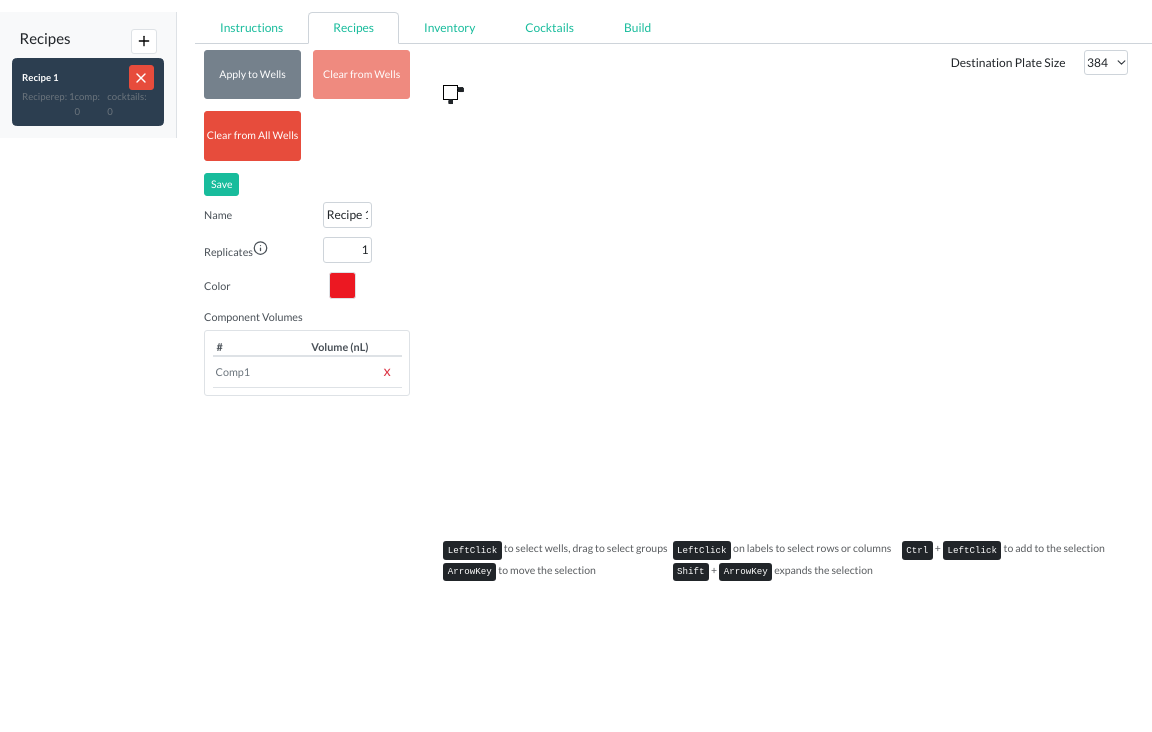
Test: CocktailBuilder designer smoke test › a cocktail row can be added
What coordinates should you click on to do the following:
click the tab "Cocktails"
I would click on:
 (550, 28)
Its box is [500,12,599,44].
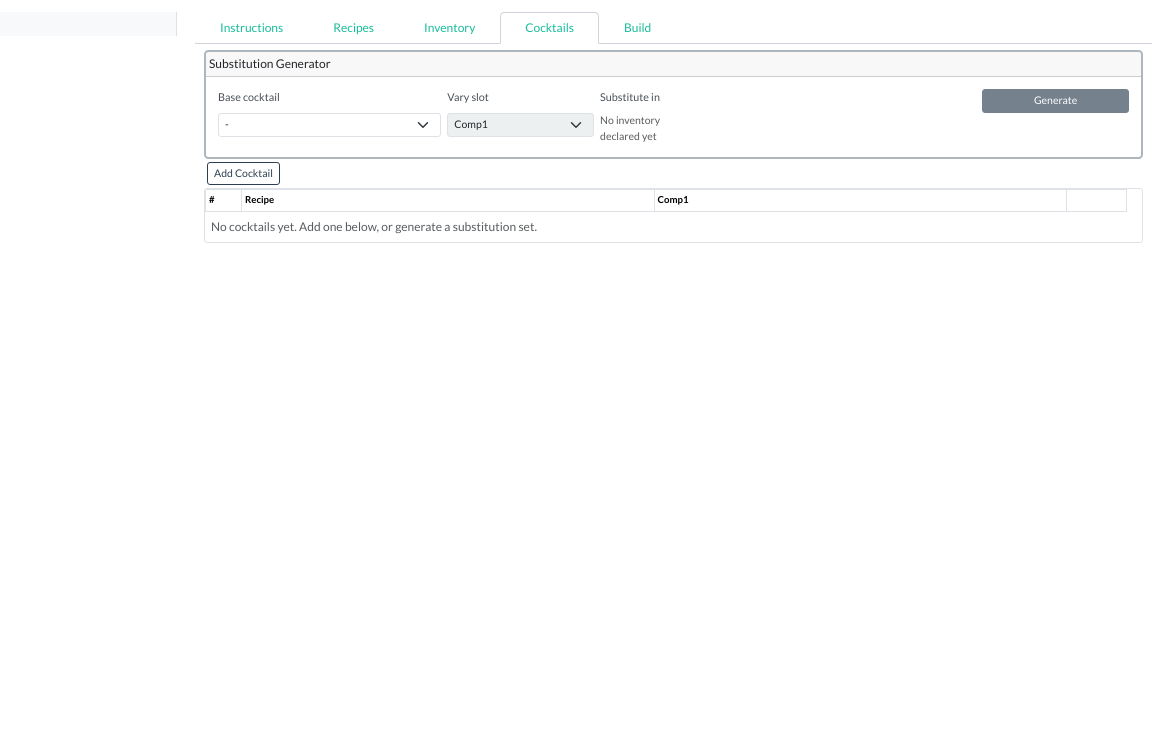
What coordinates should you click on to do the following:
click the button "Add Cocktail"
I would click on:
 (244, 174)
Its box is [207,162,280,186].
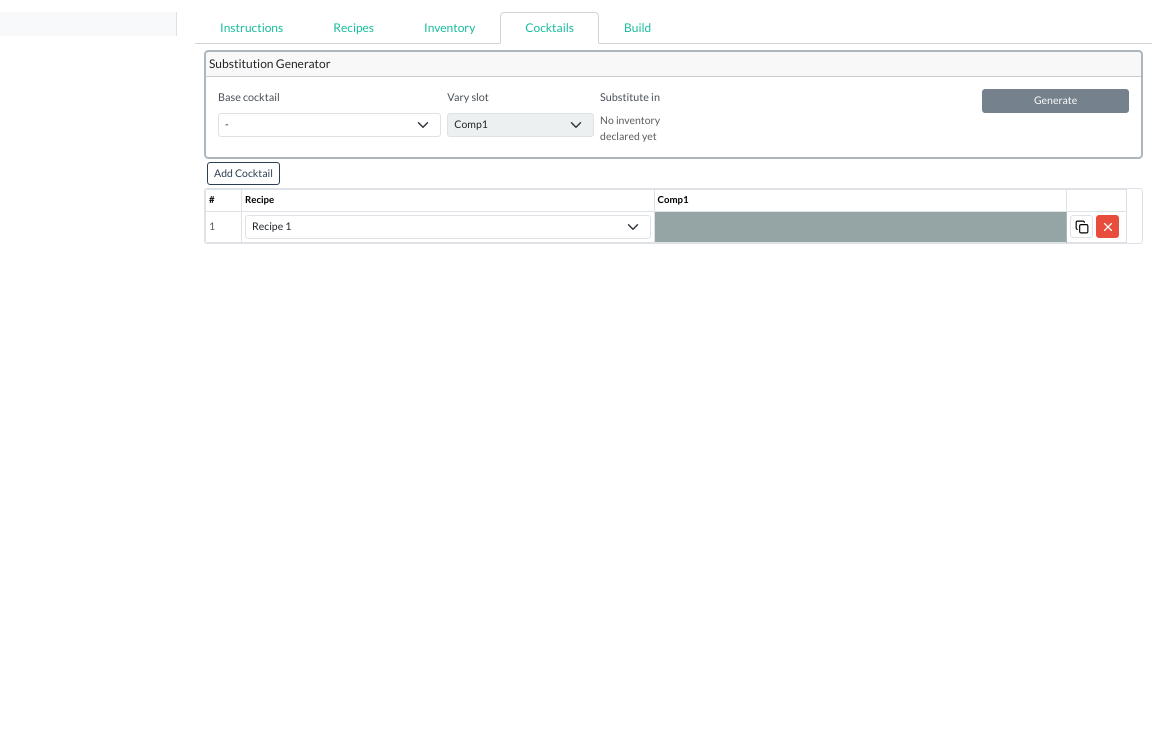
Now the number of rows is 2, box [206,190,1126,211]; [206,211,1126,242]
